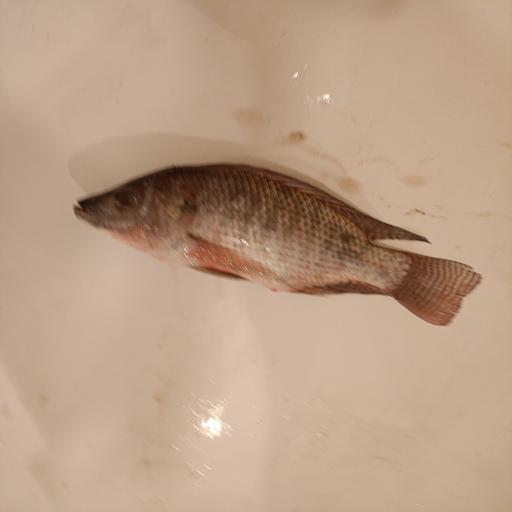Tilapia: (72, 164, 483, 327)
